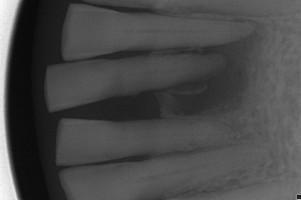Dental Caries: (163, 17, 271, 117)
